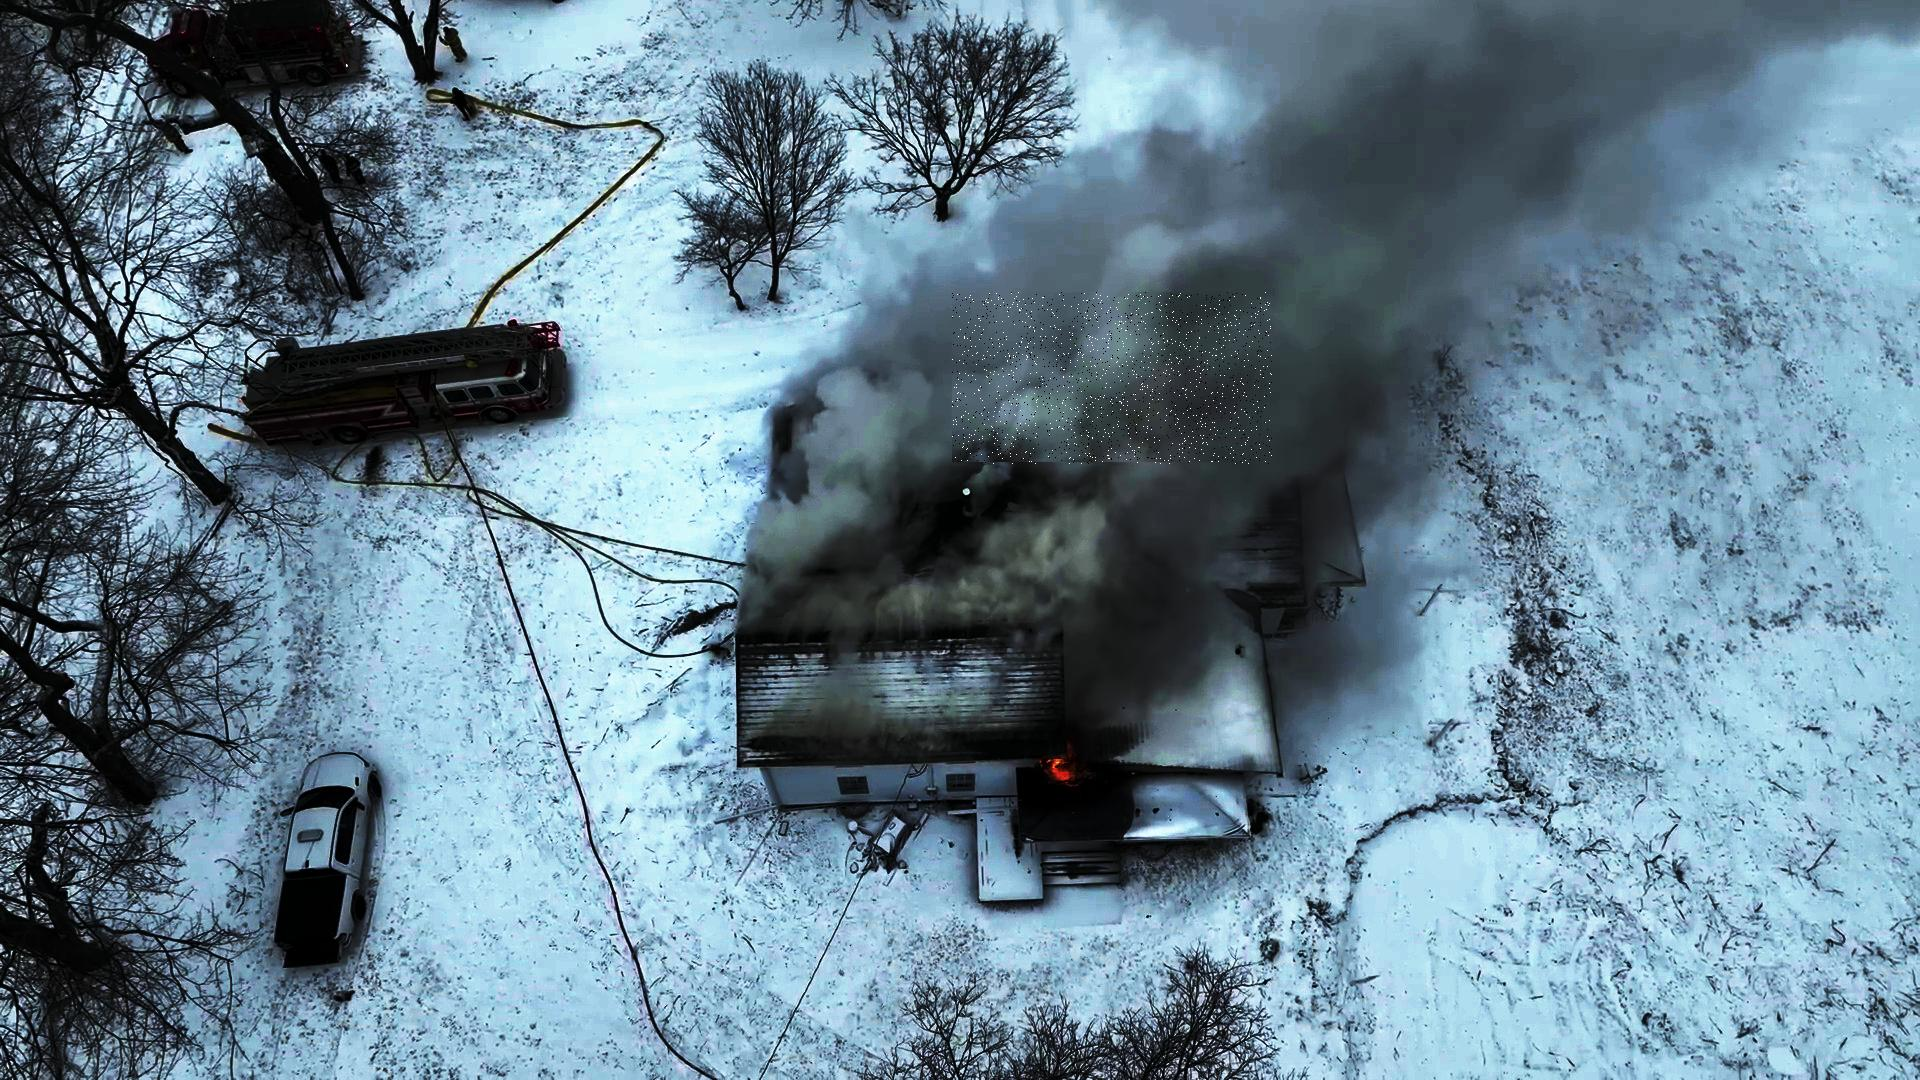smoke: (953, 293, 1273, 464)
